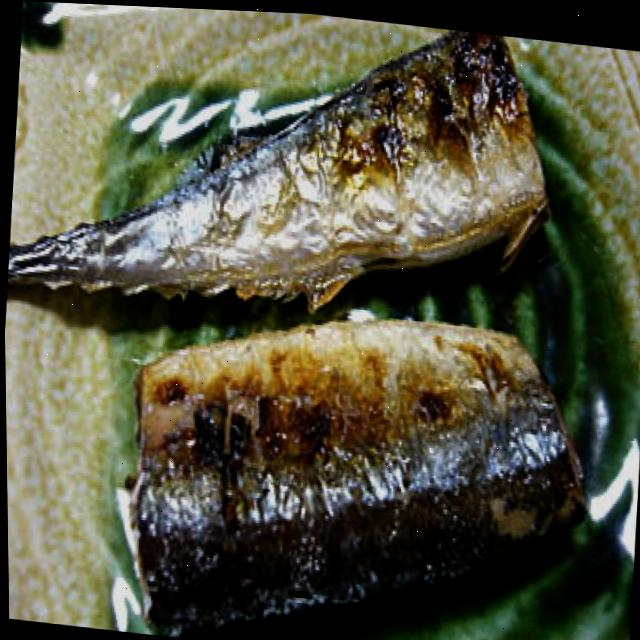熟制海鲜: (45, 233, 621, 640), (0, 0, 557, 375)
